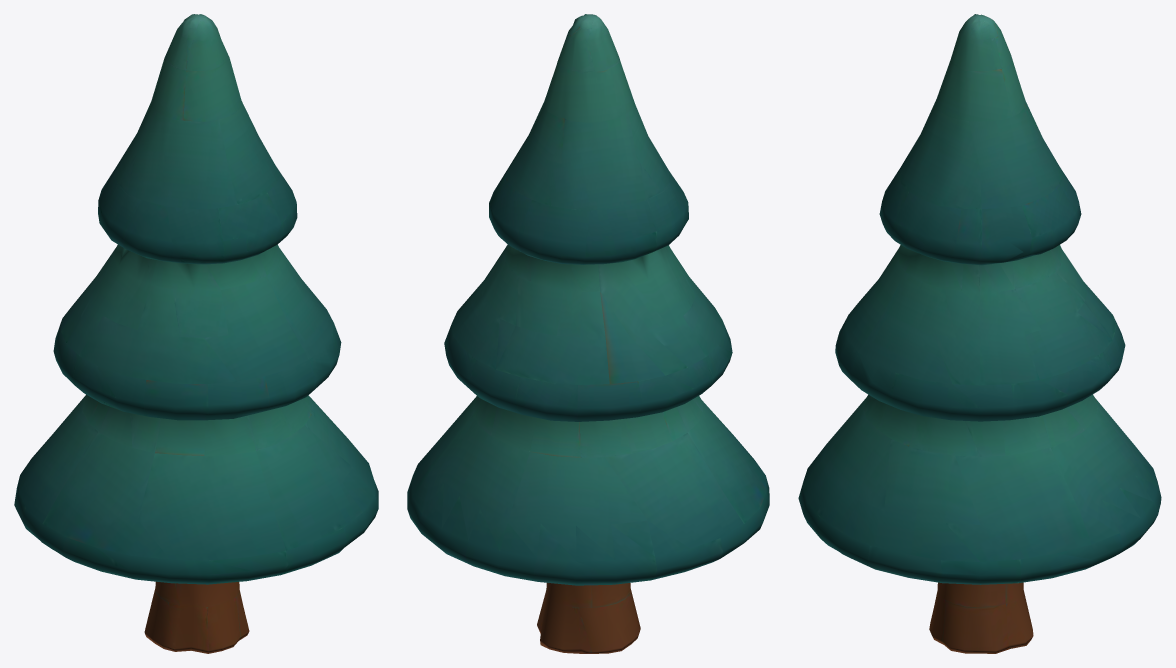
The model's file is pine.glb.
The picture shows the model from 3 angles, left to right: view 1: azimuth 30°, elevation 25°; view 2: azimuth 150°, elevation 25°; view 3: azimuth 270°, elevation 25°; orthographic projection.
Size of the model in its own units: 0.5103 by 0.9512 by 0.5069.
Materials: 1 (1 with a texture image).
